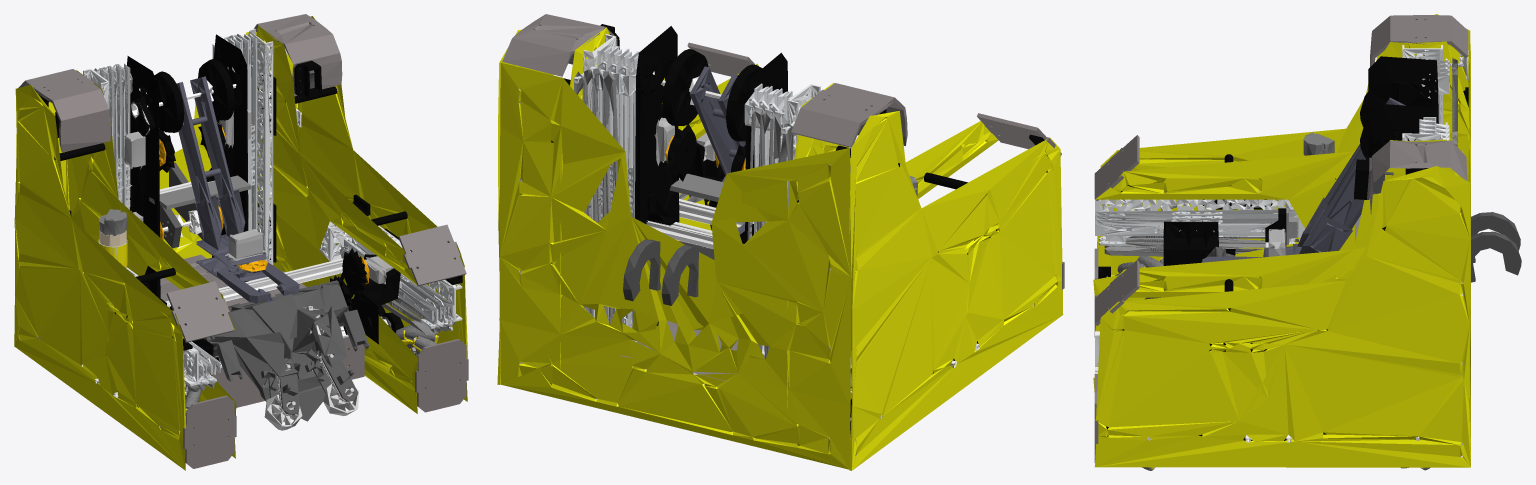
Rendered from robot.glb.
3 views of the same model, side by side, from view 1: azimuth 30°, elevation 25°; view 2: azimuth 150°, elevation 25°; view 3: azimuth 270°, elevation 25° (orthographic). The views are drawn at different scales.
Visible parts, largest first — view 1: Body2.001, Body1, Corpo1, Body2, Body1.001, Body1.496, Body8.029, Body1.504, Body1.495, Body1.494, Body1.497, Body8.030 (+41 smaller); view 2: Body5.008, Body2.001, Body8.030, Body1.496, Body1.497, Body1.001, Body1.738, Body1.1559, Body1.1534, Body1.977, Body1.1553, Body1.1552 (+15 smaller); view 3: Body2, Body1.001, Body1, Body2.001, Body1.496, Body1.497, Body1.1515, Body1.985, Body8.029, Body8.030, Body328, Body41 (+16 smaller).
Boxes of the visible parts, bbox=[...] form: Body2.001: bbox=[14, 84, 186, 470]; Body1: bbox=[256, 26, 418, 413]; Corpo1: bbox=[210, 280, 347, 401]; Body2: bbox=[297, 16, 467, 401]; Body1.001: bbox=[66, 70, 236, 458]; Body1.496: bbox=[18, 69, 111, 152]; Body8.029: bbox=[126, 56, 160, 297]; Body1.504: bbox=[248, 28, 273, 264]; Body1.495: bbox=[415, 339, 468, 412]; Body1.494: bbox=[183, 395, 236, 468]; Body1.497: bbox=[254, 14, 342, 96]; Body8.030: bbox=[212, 34, 248, 281]; Body5.008: bbox=[499, 62, 851, 469]; Body2.001: bbox=[849, 111, 1063, 470]; Body8.030: bbox=[635, 26, 679, 325]; Body1.496: bbox=[791, 83, 907, 147]; Body1.497: bbox=[502, 14, 617, 76]; Body1.001: bbox=[787, 83, 998, 407]; Body1.738: bbox=[574, 69, 623, 325]; Body1.1559: bbox=[663, 49, 708, 125]; Body1.1534: bbox=[689, 66, 738, 176]; Body1.977: bbox=[747, 108, 793, 359]; Body1.1553: bbox=[661, 245, 714, 305]; Body1.1552: bbox=[623, 239, 706, 301]; Body2: bbox=[1094, 166, 1470, 467]; Body1.001: bbox=[1093, 41, 1469, 331]; Body1: bbox=[1093, 139, 1458, 391]; Body2.001: bbox=[1097, 14, 1470, 276]; Body1.496: bbox=[1370, 15, 1468, 66]; Body1.497: bbox=[1369, 140, 1467, 213]; Body1.1515: bbox=[1163, 221, 1235, 265]; Body1.985: bbox=[1095, 190, 1293, 215]; Body8.029: bbox=[1368, 56, 1438, 123]; Body8.030: bbox=[1368, 104, 1437, 157]; Body328: bbox=[1104, 236, 1298, 256]; Body41: bbox=[1095, 223, 1269, 235].
Bounding box in the file's own units: 0.4282 × 0.4187 × 0.5042.
